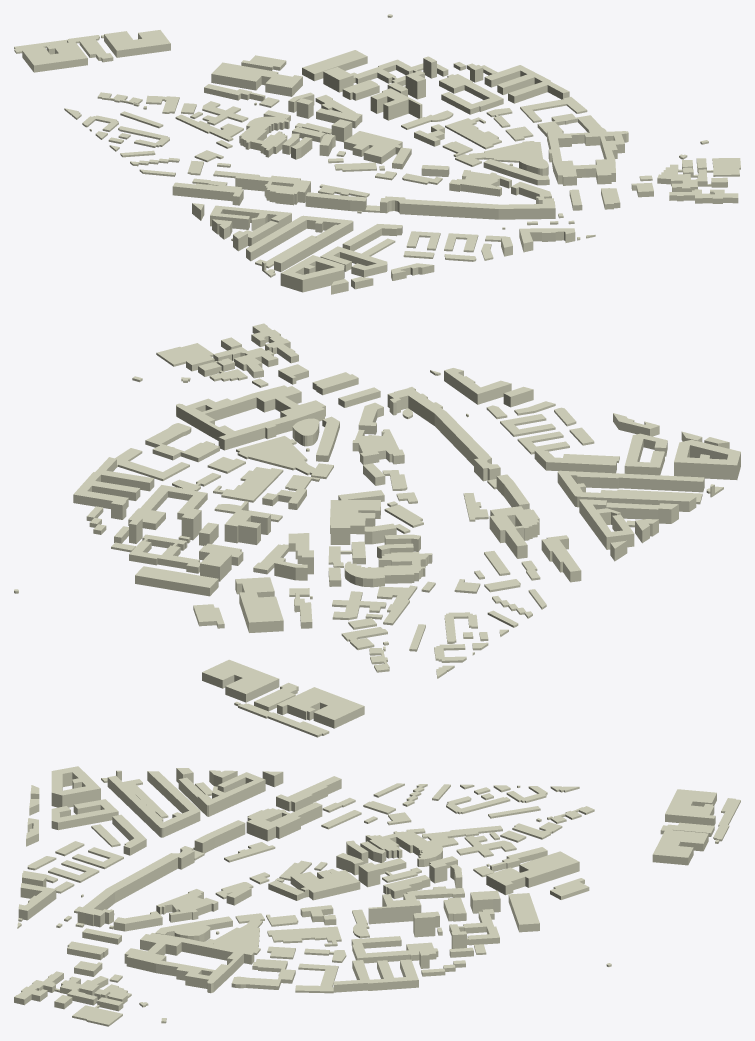
File: KTH3d_20191008.dae
3 renders of one model, top to bottom at view 1: azimuth 30°, elevation 25°; view 2: azimuth 150°, elevation 25°; view 3: azimuth 270°, elevation 25°, orthographic. The views are drawn at different scales.
Parts seen in each view (by area): view 1: group_402, group_342, group_327, group_750, group_542, group_535, group_463, group_492, group_344, group_52, group_211, group_301 (+28 smaller); view 2: group_342, group_402, group_542, group_750, group_301, group_492, group_463, group_327, group_52, group_535, group_211, group_295 (+24 smaller); view 3: group_402, group_342, group_327, group_542, group_301, group_750, group_211, group_463, group_492, group_344, group_52, group_429 (+39 smaller).
Boxes of the visible parts, x1,y1,x2,y2 form: group_402: [380, 196, 555, 219]; group_342: [246, 215, 353, 271]; group_327: [211, 62, 302, 96]; group_750: [484, 65, 569, 103]; group_542: [578, 131, 628, 184]; group_535: [280, 255, 344, 292]; group_463: [22, 39, 87, 72]; group_492: [239, 116, 289, 157]; group_344: [439, 74, 503, 114]; group_52: [104, 30, 170, 57]; group_211: [210, 205, 291, 230]; group_301: [547, 131, 585, 185]; group_342: [557, 470, 704, 511]; group_402: [387, 387, 500, 481]; group_542: [176, 385, 301, 435]; group_750: [73, 457, 154, 508]; group_301: [209, 400, 325, 450]; group_492: [344, 552, 432, 587]; group_463: [277, 687, 364, 728]; group_327: [235, 577, 283, 632]; group_52: [202, 659, 279, 702]; group_535: [674, 439, 740, 479]; group_211: [579, 499, 634, 549]; group_295: [236, 436, 315, 475]; group_402: [77, 846, 194, 927]; group_342: [107, 771, 200, 837]; group_327: [486, 851, 579, 895]; group_542: [124, 947, 234, 993]; group_301: [140, 933, 254, 972]; group_750: [333, 959, 418, 992]; group_211: [197, 772, 265, 816]; group_463: [665, 789, 716, 825]; group_492: [365, 831, 442, 866]; group_344: [351, 936, 438, 963]; group_52: [652, 829, 708, 865]; group_429: [290, 870, 360, 900].
Bounding box in the file's own units: 32860 × 40826 × 1181.
